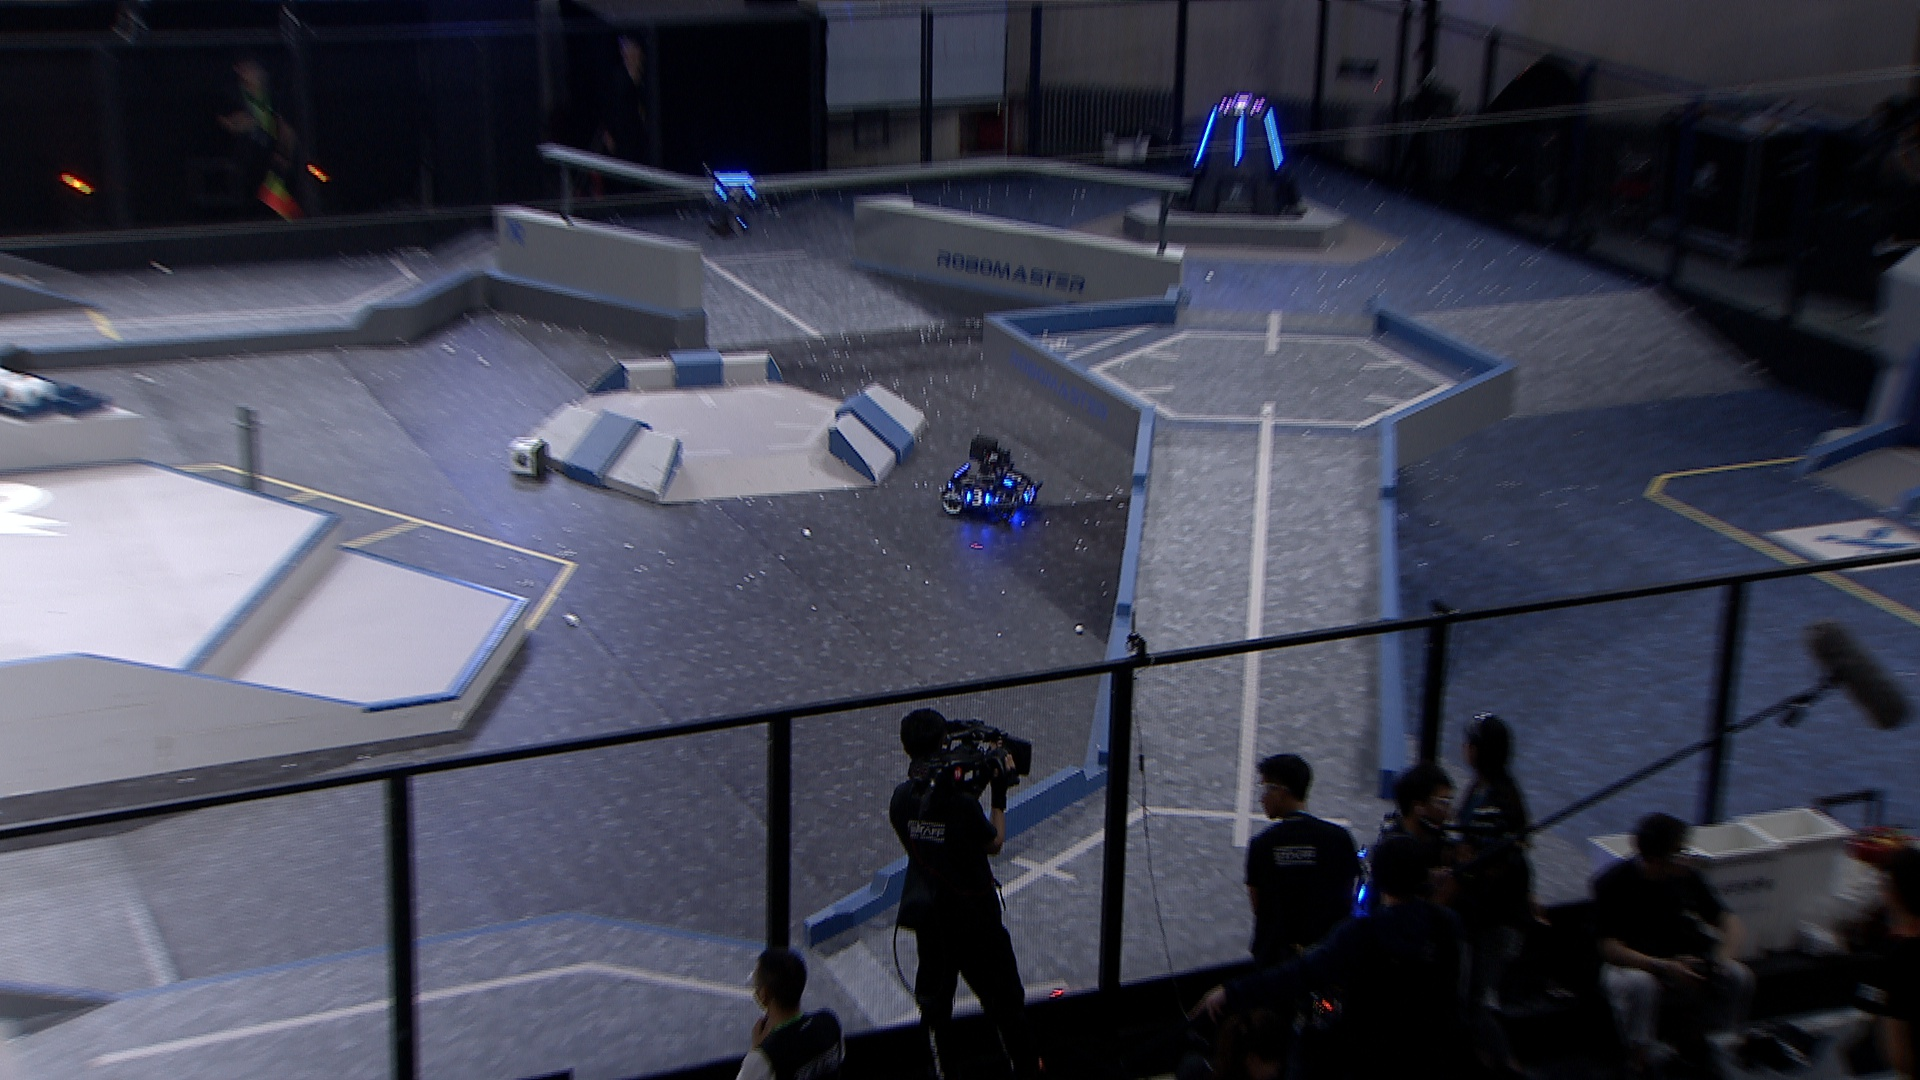armor: (1191, 105, 1218, 169), (1261, 107, 1283, 174), (1232, 112, 1247, 167), (713, 185, 760, 202), (964, 488, 992, 506), (1001, 469, 1025, 489), (1021, 481, 1038, 504)
base: (1166, 94, 1309, 220)
car: (1317, 816, 1455, 931), (935, 433, 1044, 526)
ignore: (1224, 98, 1262, 116)
watcher: (698, 162, 767, 237)
